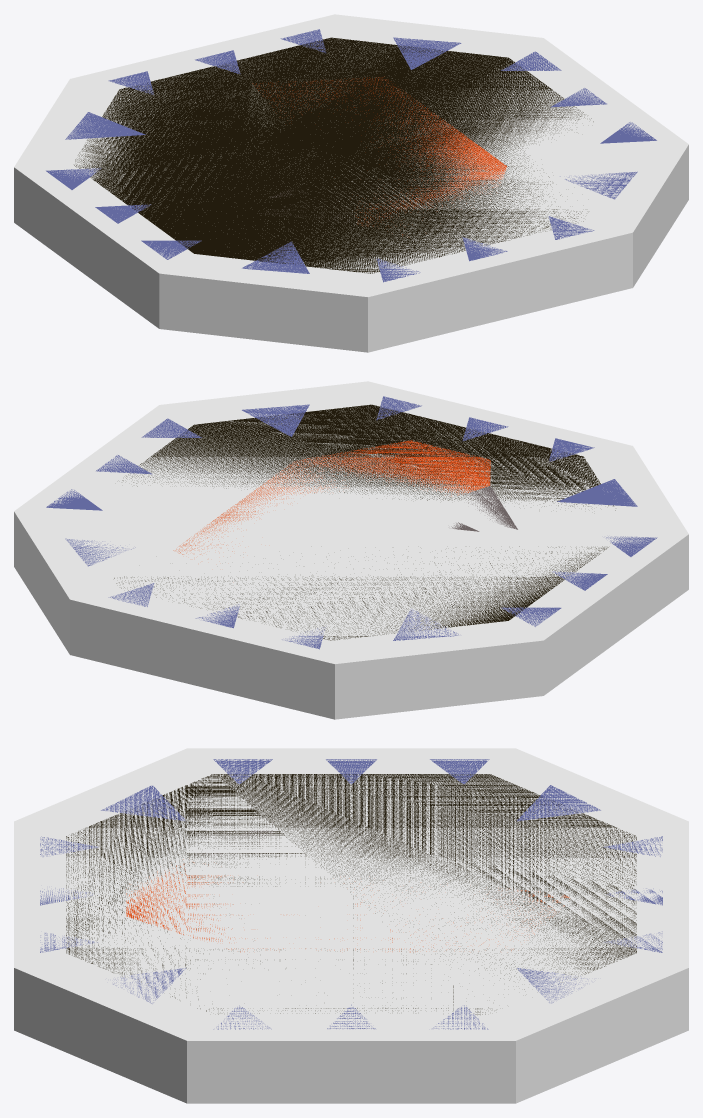
Rendered from inv_family_crest.obj.
3 renders of one model, top to bottom at view 1: azimuth 30°, elevation 25°; view 2: azimuth 150°, elevation 25°; view 3: azimuth 270°, elevation 25°, orthographic. The views are drawn at different scales.
Bounding box in the file's own units: 0.625 × 0.0625 × 0.6094.
